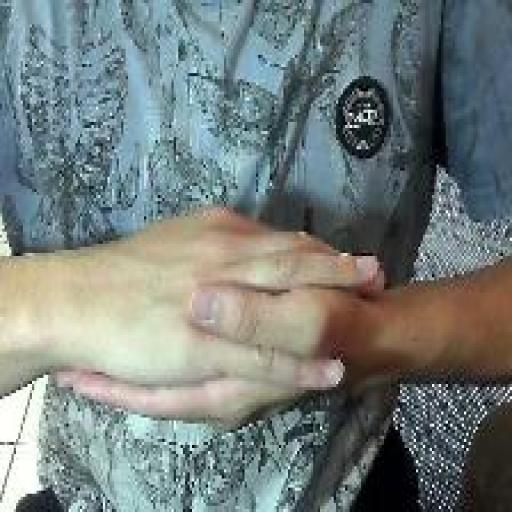Saru -monkey-: (46, 201, 388, 439)
